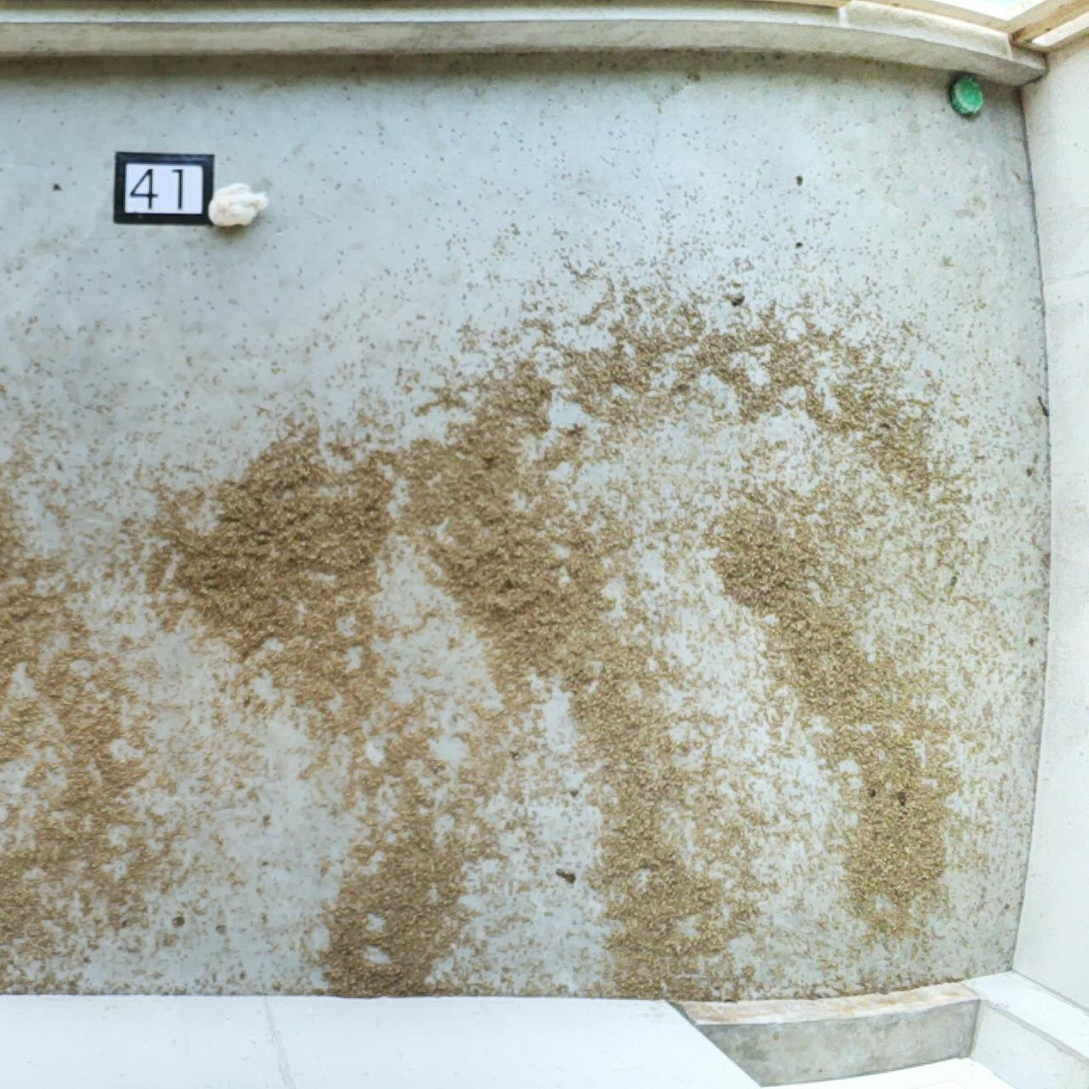chicken: (207, 182, 270, 229)
